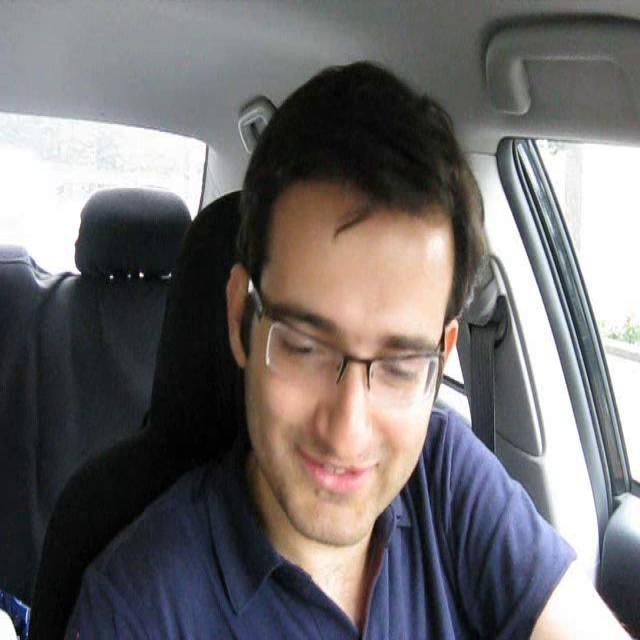close: (283, 445, 382, 502)
